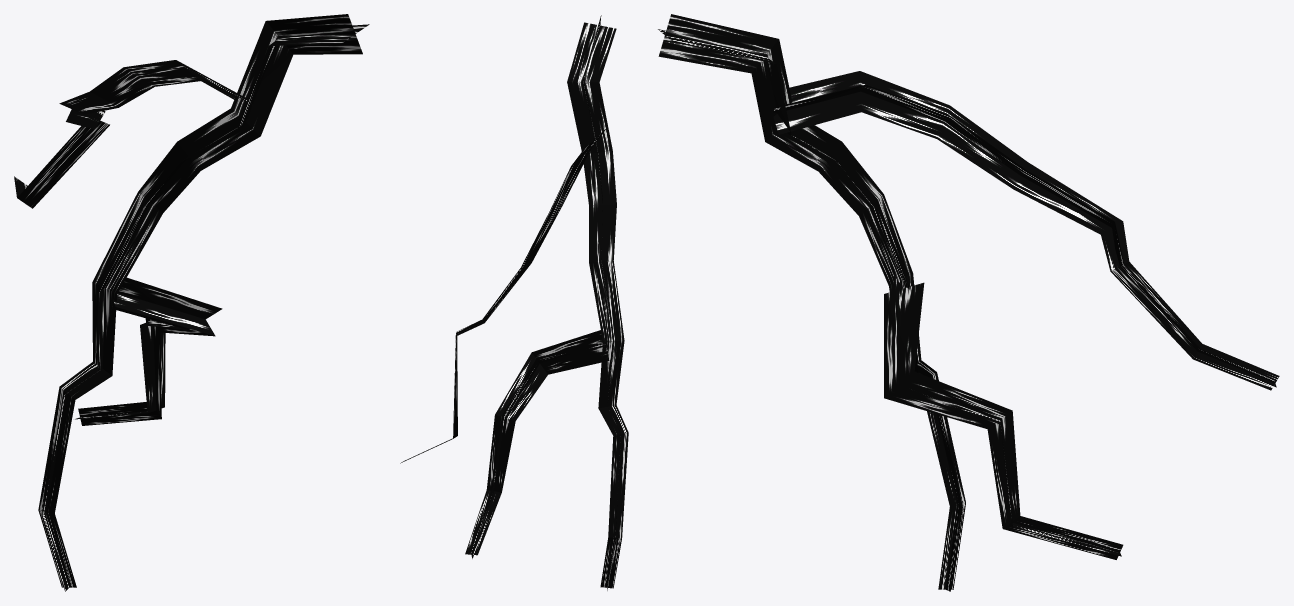
File: LightningE.fbx
3 views of the same model, side by side, from view 1: azimuth 30°, elevation 25°; view 2: azimuth 150°, elevation 25°; view 3: azimuth 270°, elevation 25° (orthographic). The views are drawn at different scales.
Visible parts, largest first — view 1: SM_EFF_Lightning_E_01.mo; view 2: SM_EFF_Lightning_E_01.mo; view 3: SM_EFF_Lightning_E_01.mo.
Boxes of the visible parts, box(x1,y1,x2,y2) form: SM_EFF_Lightning_E_01.mo: box(14, 14, 369, 591); SM_EFF_Lightning_E_01.mo: box(400, 15, 628, 590); SM_EFF_Lightning_E_01.mo: box(658, 14, 1279, 591).
Bounding box in the file's own units: 73.42 × 237 × 206.
